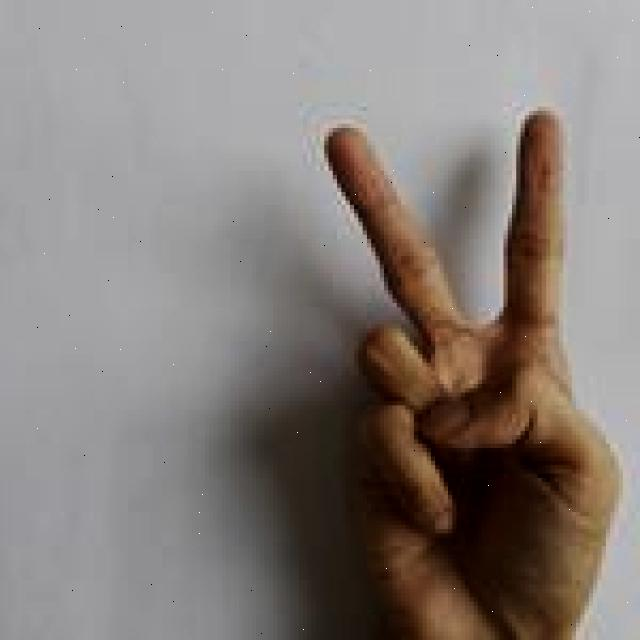V: (315, 101, 626, 640)
